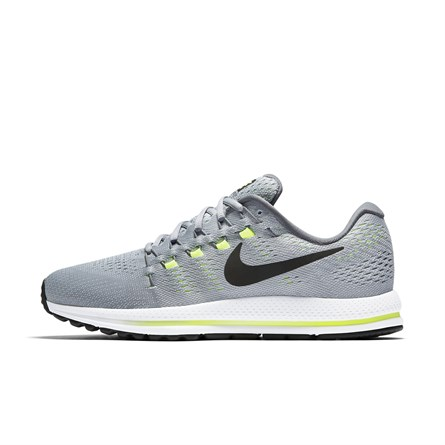nike: (220, 239, 347, 288)
